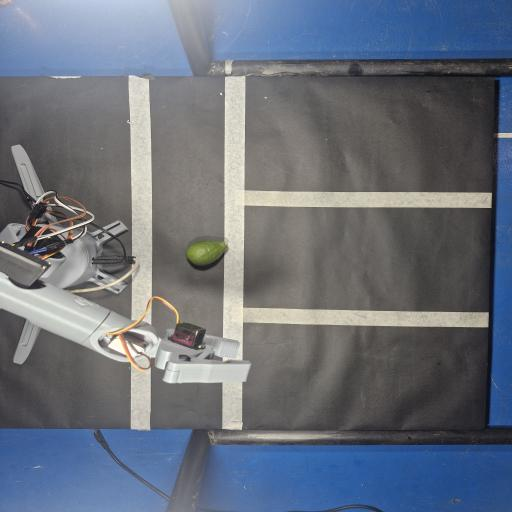higo: (186, 241, 227, 266)
